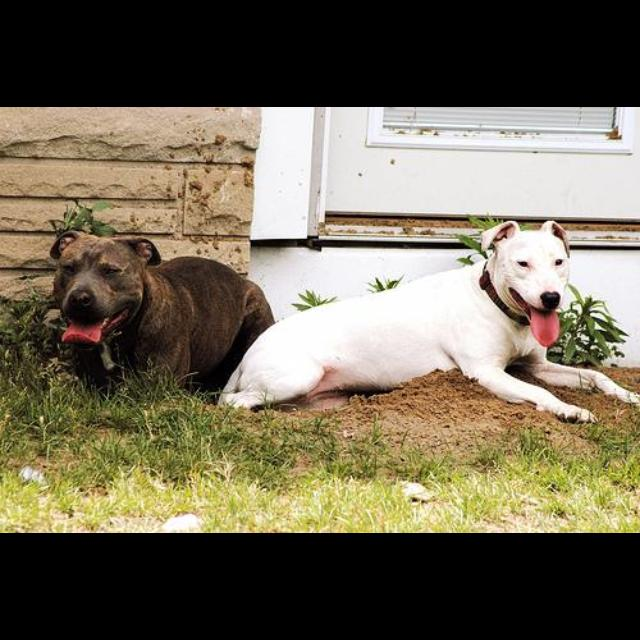amstaff: (218, 219, 640, 425), (50, 230, 276, 400)
